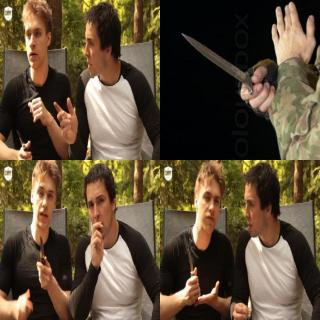knife: (176, 27, 266, 101), (32, 231, 52, 279), (183, 245, 201, 293), (13, 122, 33, 160)
